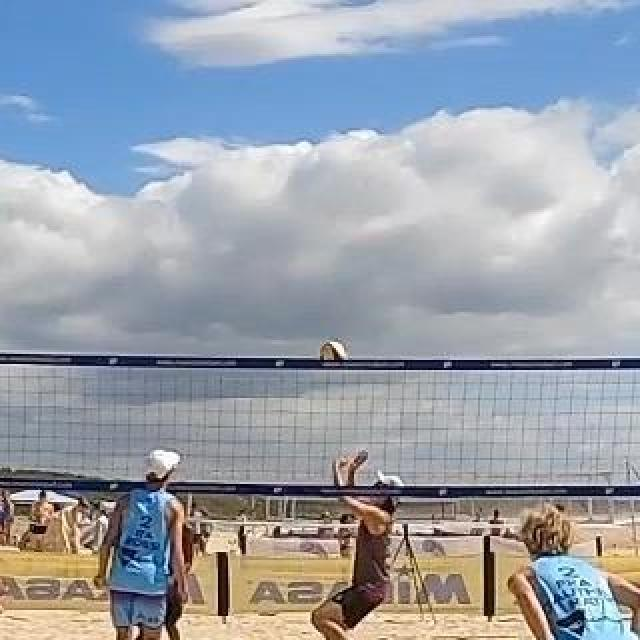volleyball: (317, 341, 347, 369)
